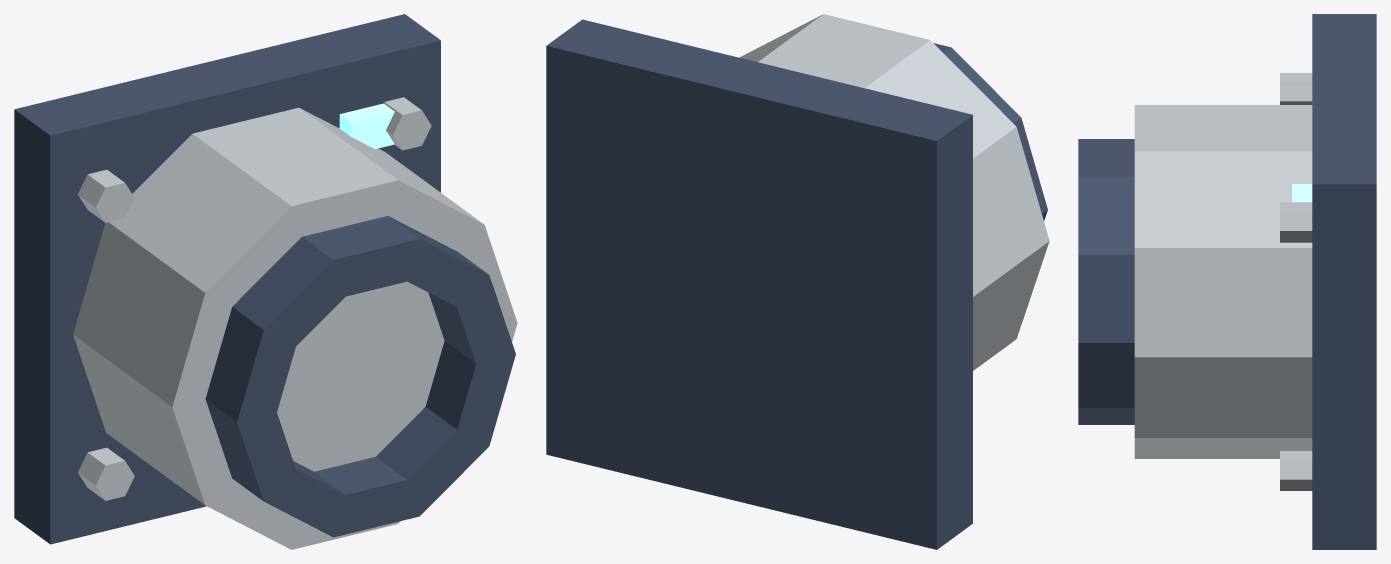
The model's file is wall_connector.glb.
The picture shows the model from 3 angles, left to right: view 1: azimuth 30°, elevation 25°; view 2: azimuth 150°, elevation 25°; view 3: azimuth 270°, elevation 25°; orthographic projection. The views are drawn at different scales.
Parts seen in each view (by area): view 1: DL016_WallConnector_graphite_navy, DL016_WallConnector_titanium, DL016_WallConnector_emissive_cyan; view 2: DL016_WallConnector_graphite_navy, DL016_WallConnector_titanium; view 3: DL016_WallConnector_titanium, DL016_WallConnector_graphite_navy, DL016_WallConnector_emissive_cyan.
Part boxes in pixels (x1,y1,x2,y2): DL016_WallConnector_graphite_navy: [14, 14, 515, 544]; DL016_WallConnector_titanium: [73, 97, 517, 549]; DL016_WallConnector_emissive_cyan: [339, 103, 394, 149]; DL016_WallConnector_graphite_navy: [546, 19, 1047, 549]; DL016_WallConnector_titanium: [739, 14, 1049, 370]; DL016_WallConnector_titanium: [1134, 73, 1312, 490]; DL016_WallConnector_graphite_navy: [1078, 14, 1376, 549]; DL016_WallConnector_emissive_cyan: [1292, 184, 1312, 202].
Bounding box in the file's own units: 0.5 × 0.5 × 0.37.
